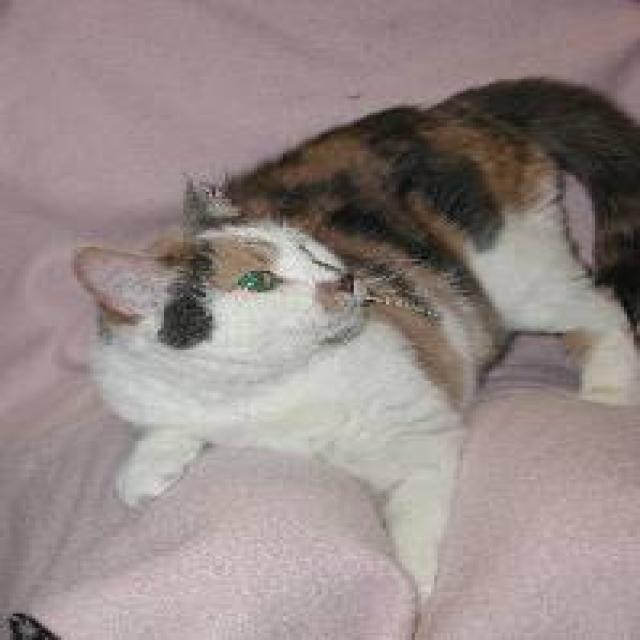cat: (54, 58, 640, 608)
